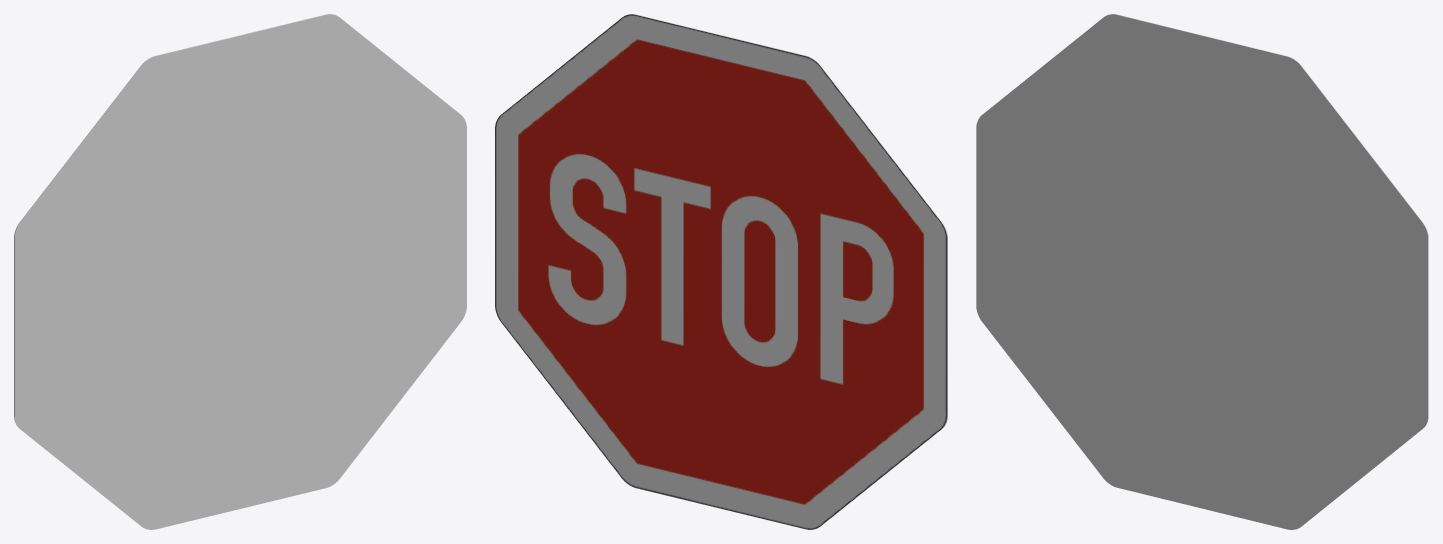
The picture shows the model from 3 angles, left to right: view 1: azimuth 30°, elevation 25°; view 2: azimuth 150°, elevation 25°; view 3: azimuth 330°, elevation 25°; orthographic projection.
Parts seen in each view (by area): view 1: Plane; view 2: Plane; view 3: Plane.
Boxes of the visible parts, x1,y1,x2,y2 form: Plane: (14, 14, 466, 529); Plane: (495, 14, 947, 529); Plane: (976, 14, 1428, 529).
Size of the model in its own units: 0.9 by 0.9005 by 0.002.
Materials: 2 (1 with a texture image).
